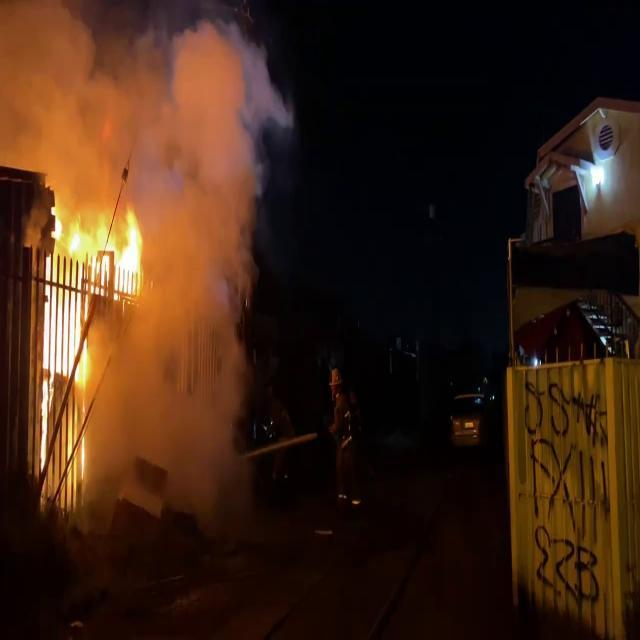Fire: (36, 183, 144, 504)
Smoke: (0, 0, 285, 229), (128, 206, 254, 516)
